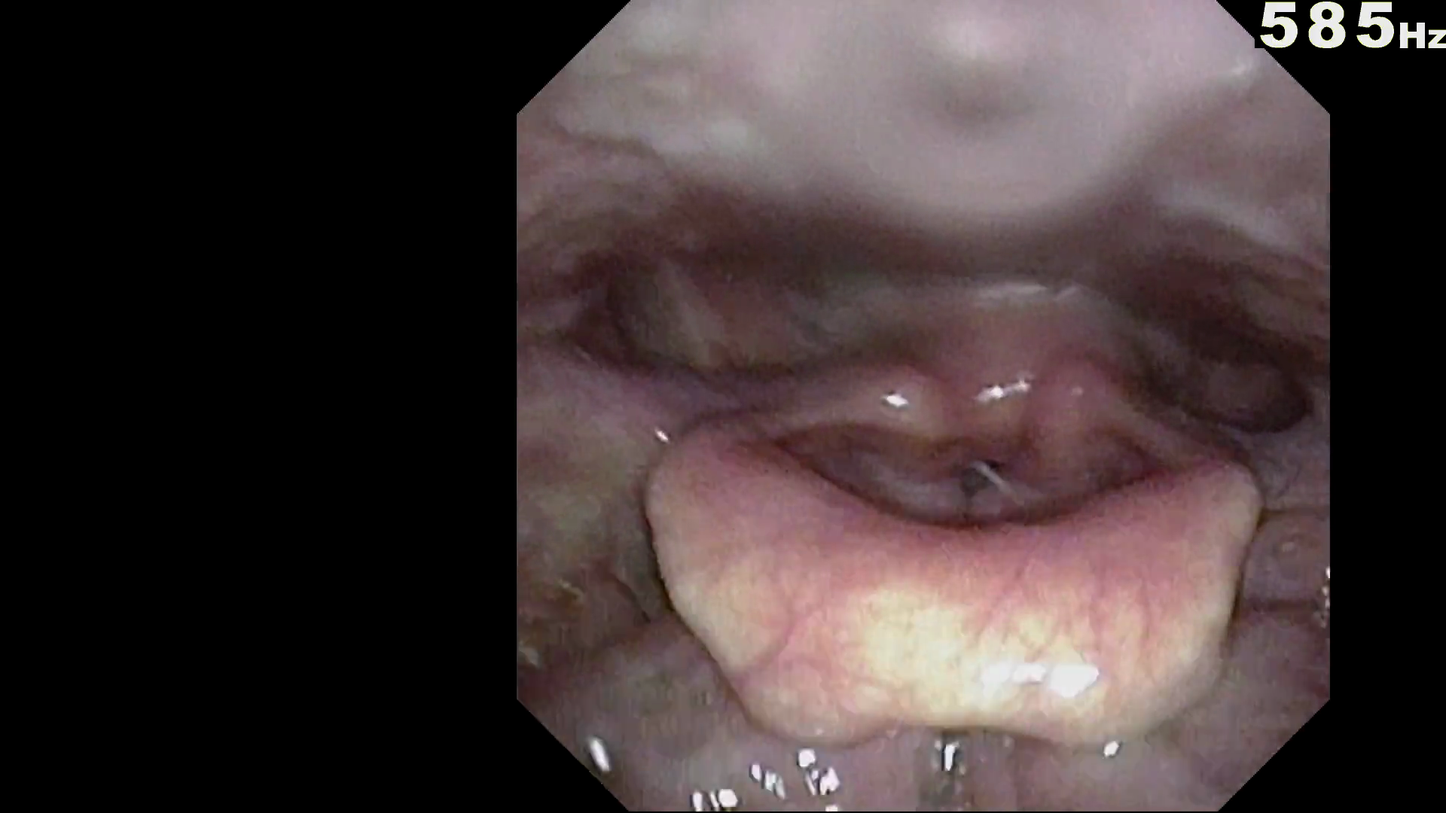epiglottis: (651, 452, 1262, 724)
trachea: (913, 421, 1038, 544)
